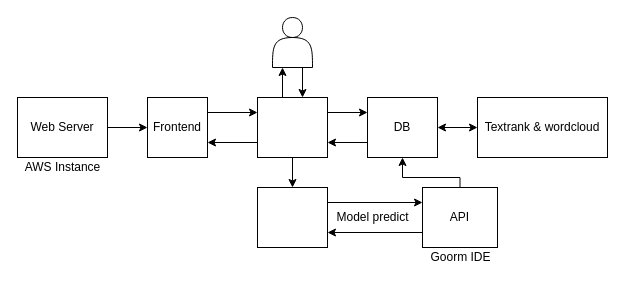
Image size: 625x285. Some labels were removed from this diagram. Each missing label, with the centre of its shape:
"Backend" goes at (x=292, y=217).
"리뷰입력" goes at (x=292, y=127).
